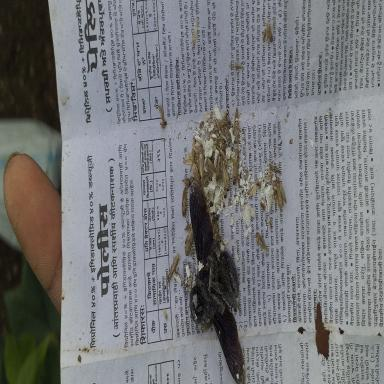pbw: (166, 250, 182, 283), (156, 100, 168, 132), (275, 177, 288, 205), (220, 160, 230, 192), (255, 230, 268, 254), (232, 146, 240, 184), (233, 107, 241, 143), (184, 227, 193, 259), (204, 155, 216, 179), (191, 162, 202, 188), (181, 183, 188, 218), (173, 267, 183, 287), (182, 152, 196, 166), (198, 152, 204, 177), (194, 145, 204, 155), (272, 165, 281, 175), (268, 163, 272, 182)
